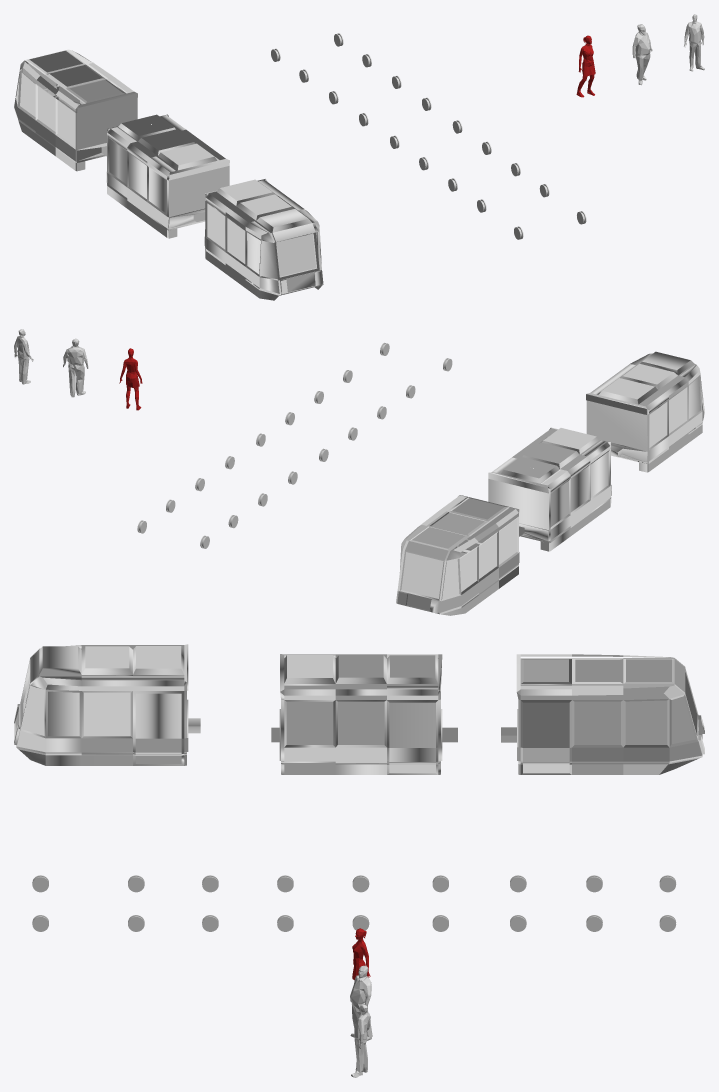
Rendered from 未标题 1.fbx.
The picture shows the model from 3 angles, top to bottom: view 1: azimuth 30°, elevation 25°; view 2: azimuth 150°, elevation 25°; view 3: azimuth 270°, elevation 25°; orthographic projection. The views are drawn at different scales.
Parts seen in each view (by area): view 1: 车中, 车尾, 车头, 车头玻璃, 胖, 男, 女; view 2: 车尾, 车中, 车头, 胖, 女, 男; view 3: 车尾, 车头, 车中, 男, 胖.
Boxes of the visible parts, x1,y1,x2,y2 form: 车中: (106, 114, 229, 238); 车尾: (14, 49, 137, 171); 车头: (204, 179, 323, 300); 车头玻璃: (276, 233, 316, 276); 胖: (632, 24, 652, 85); 男: (684, 14, 704, 71); 女: (576, 35, 595, 97); 车尾: (396, 495, 519, 615); 车中: (488, 427, 611, 551); 车头: (586, 351, 704, 472); 胖: (63, 338, 88, 397); 女: (119, 348, 142, 410); 男: (14, 329, 33, 384); 车尾: (501, 654, 704, 774); 车头: (14, 644, 200, 765); 车中: (271, 654, 457, 774); 男: (351, 1004, 370, 1077); 胖: (350, 965, 372, 1040).
Bounding box in the file's own units: 1828 × 234 × 1495.
